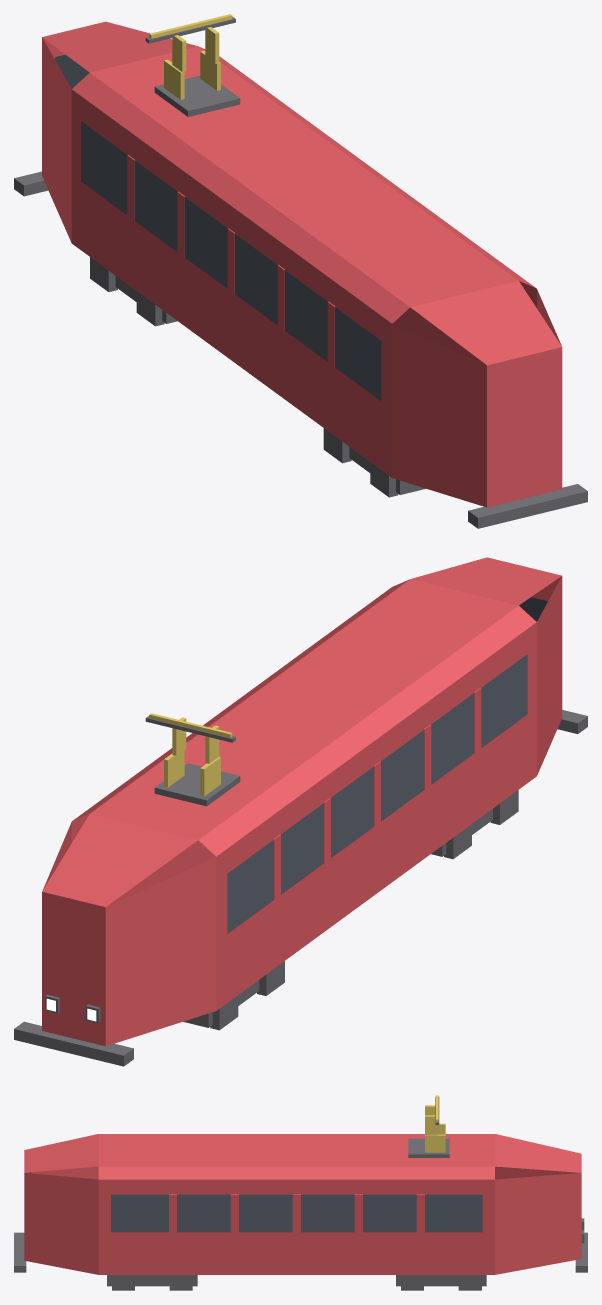
Rendered from tatra_t3.glb.
The picture shows the model from 3 angles, top to bottom: view 1: azimuth 30°, elevation 25°; view 2: azimuth 150°, elevation 25°; view 3: azimuth 270°, elevation 25°; orthographic projection. The views are drawn at different scales.
Parts seen in each view (by area): view 1: Tatra_T3; view 2: Tatra_T3; view 3: Tatra_T3.
Part boxes in pixels (box(x1,y1,x2,y2)): Tatra_T3: box(14, 14, 587, 528); Tatra_T3: box(14, 557, 587, 1066); Tatra_T3: box(14, 1095, 587, 1290).
Bounding box in the file's own units: 2.54 × 4.37 × 13.9.
